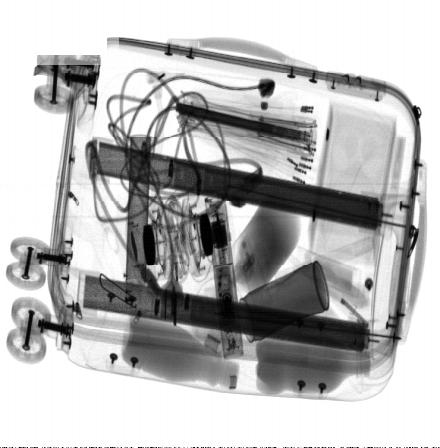Baton: (204, 191, 244, 359)
